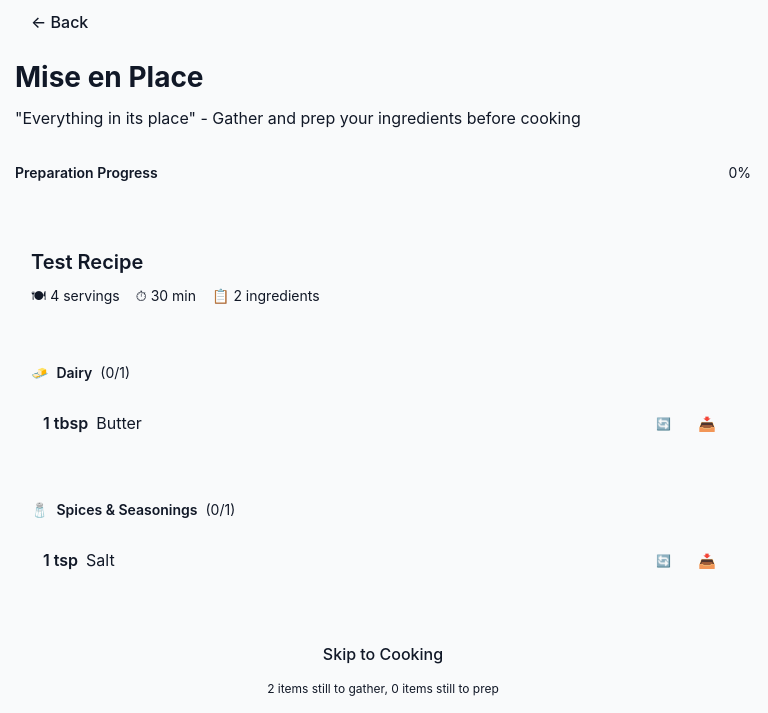
MiseEnPlace › a recipe where nothing needs prepping reaches 100% once gathered
Expected: the text "0%" is shown, [728,162,751,183]
Click the button titled "Gathered" in the row of "Butter" at x=707, y=423, box [691,407,723,439]
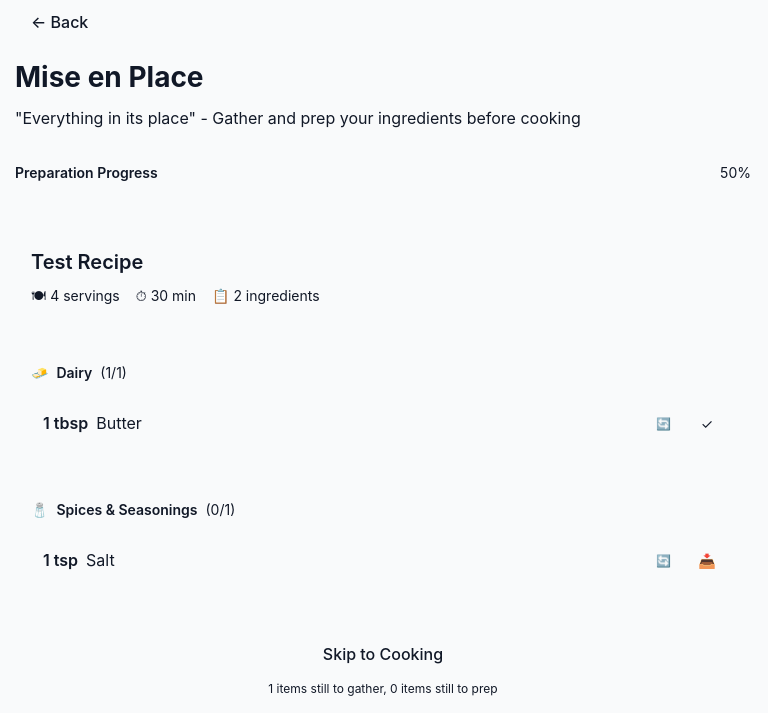
Click the button titled "Gathered" at x=707, y=560, box [691,544,723,576]
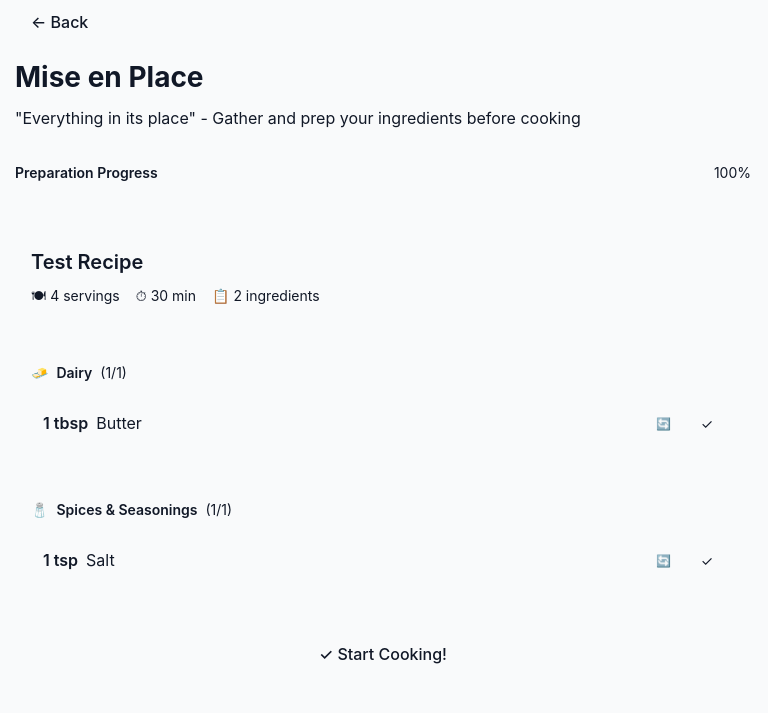
Expected: the text "100%" is shown, [714,162,751,183]
Expected: the button "✓ Start Cooking!" is shown, [283,636,483,672]
